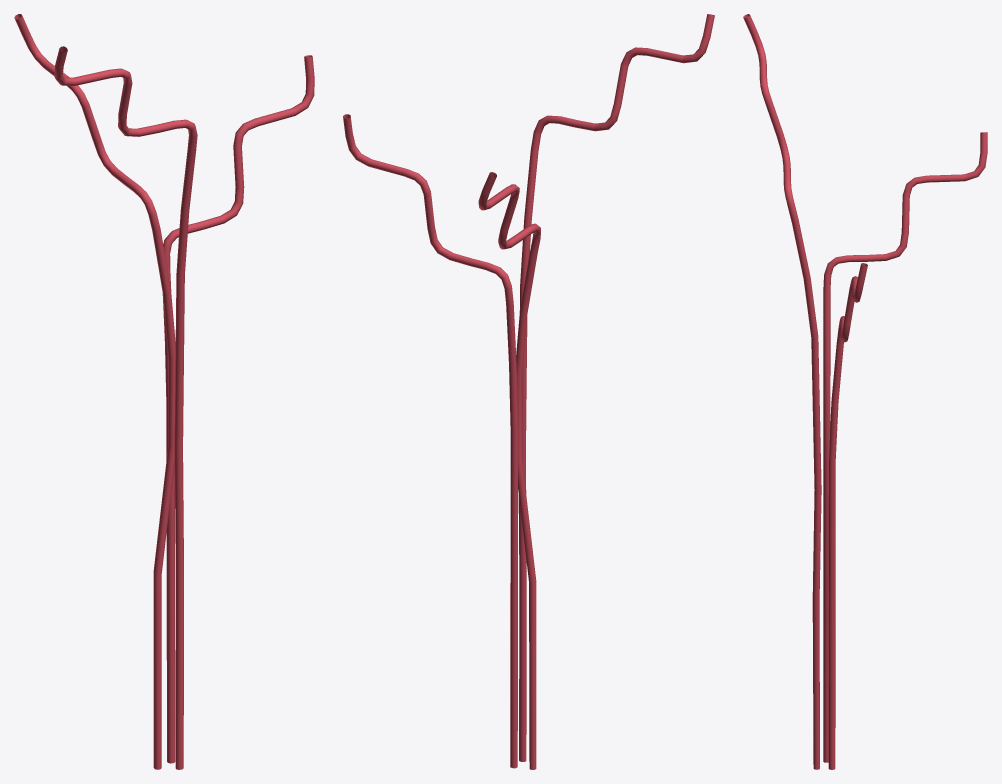
The model's file is wattle4.fbx.
3 views of the same model, side by side, from view 1: azimuth 30°, elevation 25°; view 2: azimuth 150°, elevation 25°; view 3: azimuth 270°, elevation 25° (orthographic). The views are drawn at different scales.
Visible parts, largest first — view 1: wattle4_LOD0; view 2: wattle4_LOD0; view 3: wattle4_LOD0.
Part boxes in pixels (bbox=[...]): wattle4_LOD0: bbox=[14, 14, 314, 769]; wattle4_LOD0: bbox=[343, 14, 714, 769]; wattle4_LOD0: bbox=[743, 14, 987, 769].
Size of what is drawn, in the model's own units: 1192 by 2810 by 906.
